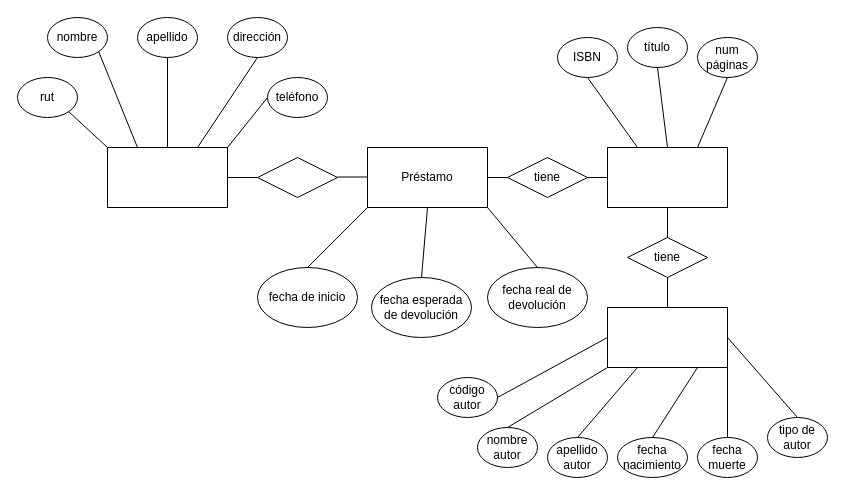
Image size: 845x495. Some labels were removed from this diagram. Each missing label, with the centre of its shape:
Autor: the point at 667,337
Libros: the point at 667,177
Socios: the point at 167,177
solicitan: the point at 297,177
